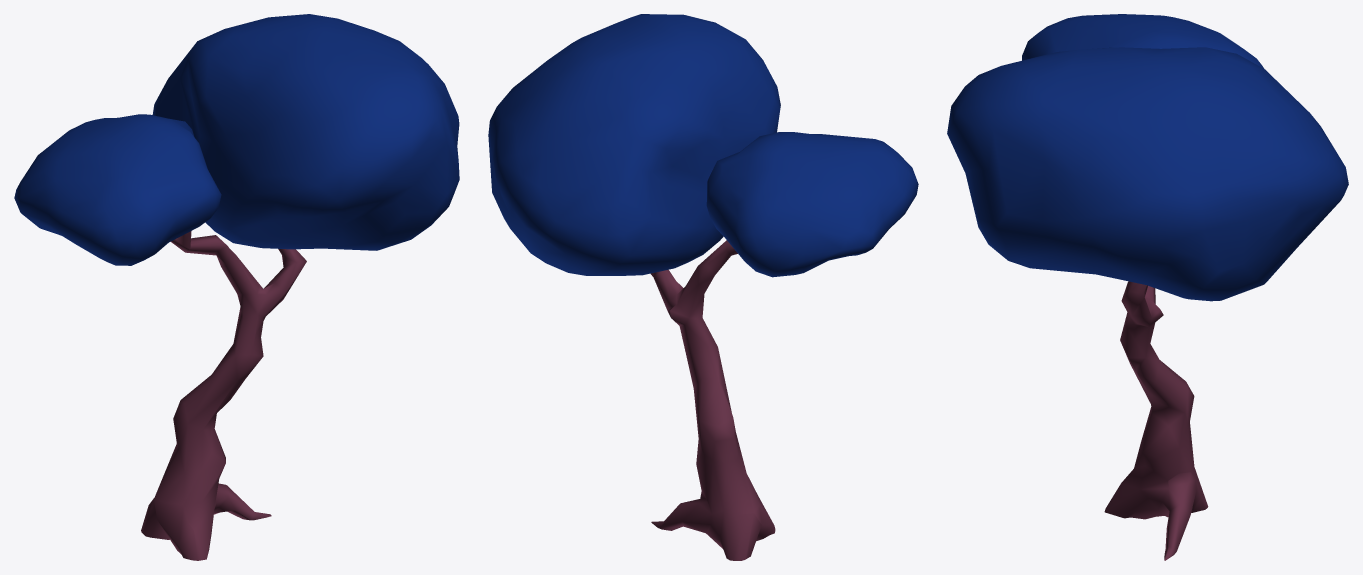
Rendered from tree 4.fbx.
3 views of the same model, side by side, from view 1: azimuth 30°, elevation 25°; view 2: azimuth 150°, elevation 25°; view 3: azimuth 270°, elevation 25° (orthographic). The views are drawn at different scales.
Parts seen in each view (by area): view 1: tree_4; view 2: tree_4; view 3: tree_4.
Part boxes in pixels (x1=…): tree_4: x1=14, y1=14, x2=459, y2=560; tree_4: x1=488, y1=14, x2=918, y2=560; tree_4: x1=947, y1=14, x2=1348, y2=560.
Size of the model in its own units: 5.51 by 4.43 by 6.27.
